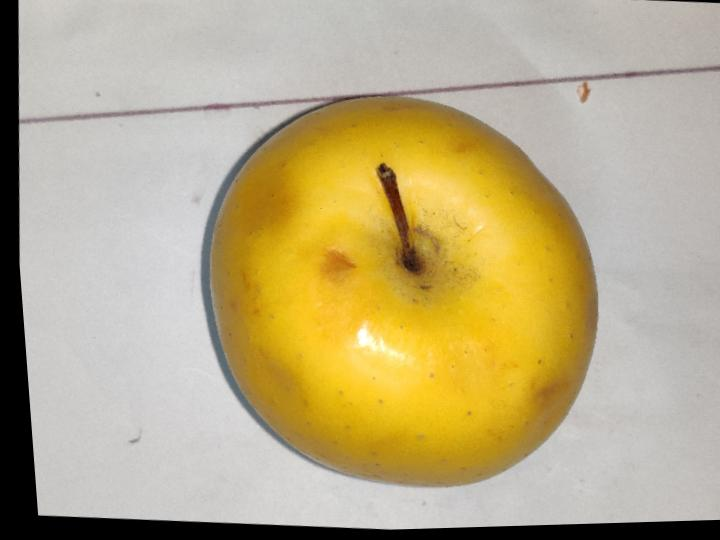apple: (210, 99, 597, 486)
surface_damage: (320, 250, 355, 279)
